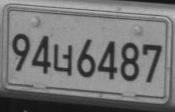4: (96, 40, 118, 80), (31, 34, 51, 74)
6: (76, 38, 96, 78)
7: (141, 43, 163, 83)
8: (119, 41, 140, 81)
9: (11, 32, 30, 71)
너: (52, 42, 73, 76)
